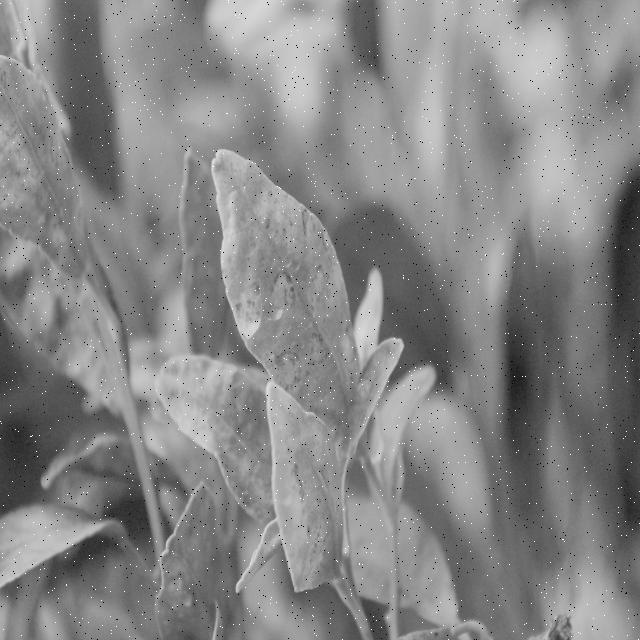canker: (221, 164, 362, 422), (2, 52, 98, 278), (264, 406, 346, 592), (183, 162, 228, 359)
